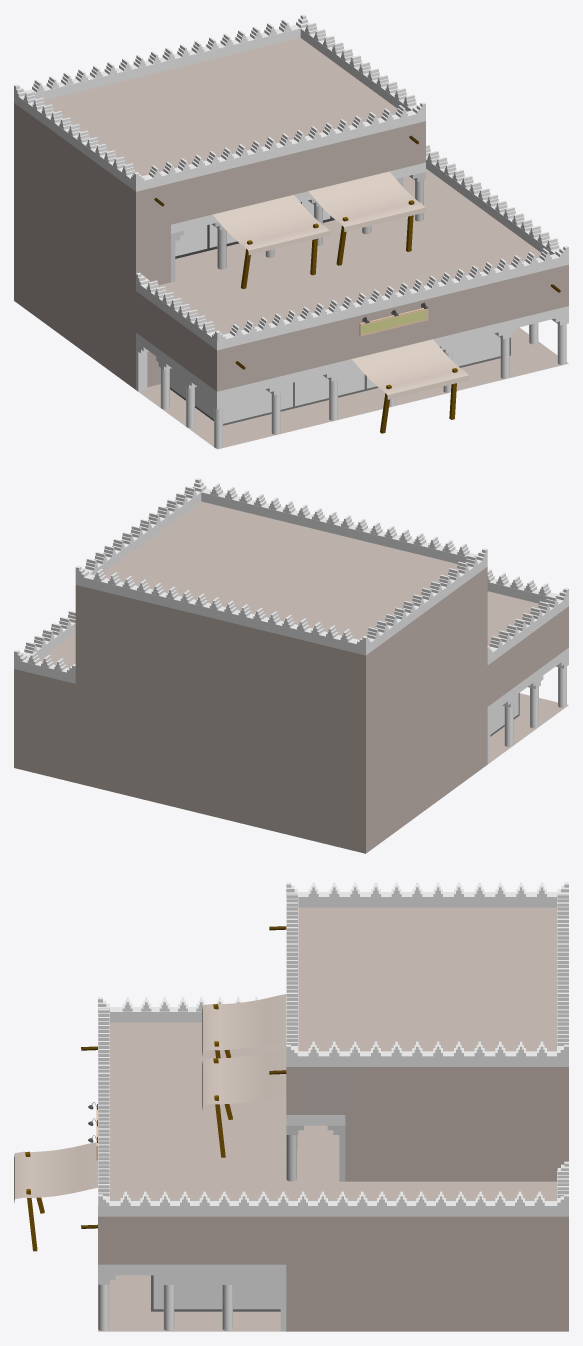
The model's file is Building3.fbx.
The picture shows the model from 3 angles, top to bottom: view 1: azimuth 30°, elevation 25°; view 2: azimuth 150°, elevation 25°; view 3: azimuth 270°, elevation 25°; orthographic projection. The views are drawn at different scales.
Parts seen in each view (by area): view 1: Building3, Umbrella (×3), G_Glass, F_Glass, Sign, pCube20; view 2: Building3; view 3: Building3, Umbrella (×3), G_Glass.
Boxes of the visible parts, x1,y1,x2,y2 form: Building3: [14, 24, 568, 449]; Umbrella (×3): [213, 171, 469, 399]; G_Glass: [170, 333, 510, 425]; F_Glass: [175, 200, 334, 258]; Sign: [359, 308, 428, 336]; pCube20: [136, 342, 148, 391]; Building3: [14, 488, 568, 853]; Building3: [98, 892, 568, 1331]; Umbrella (×3): [14, 994, 286, 1202]; G_Glass: [151, 1275, 280, 1311].
Bounding box in the file's own units: 40.01 × 23.46 × 47.14.
